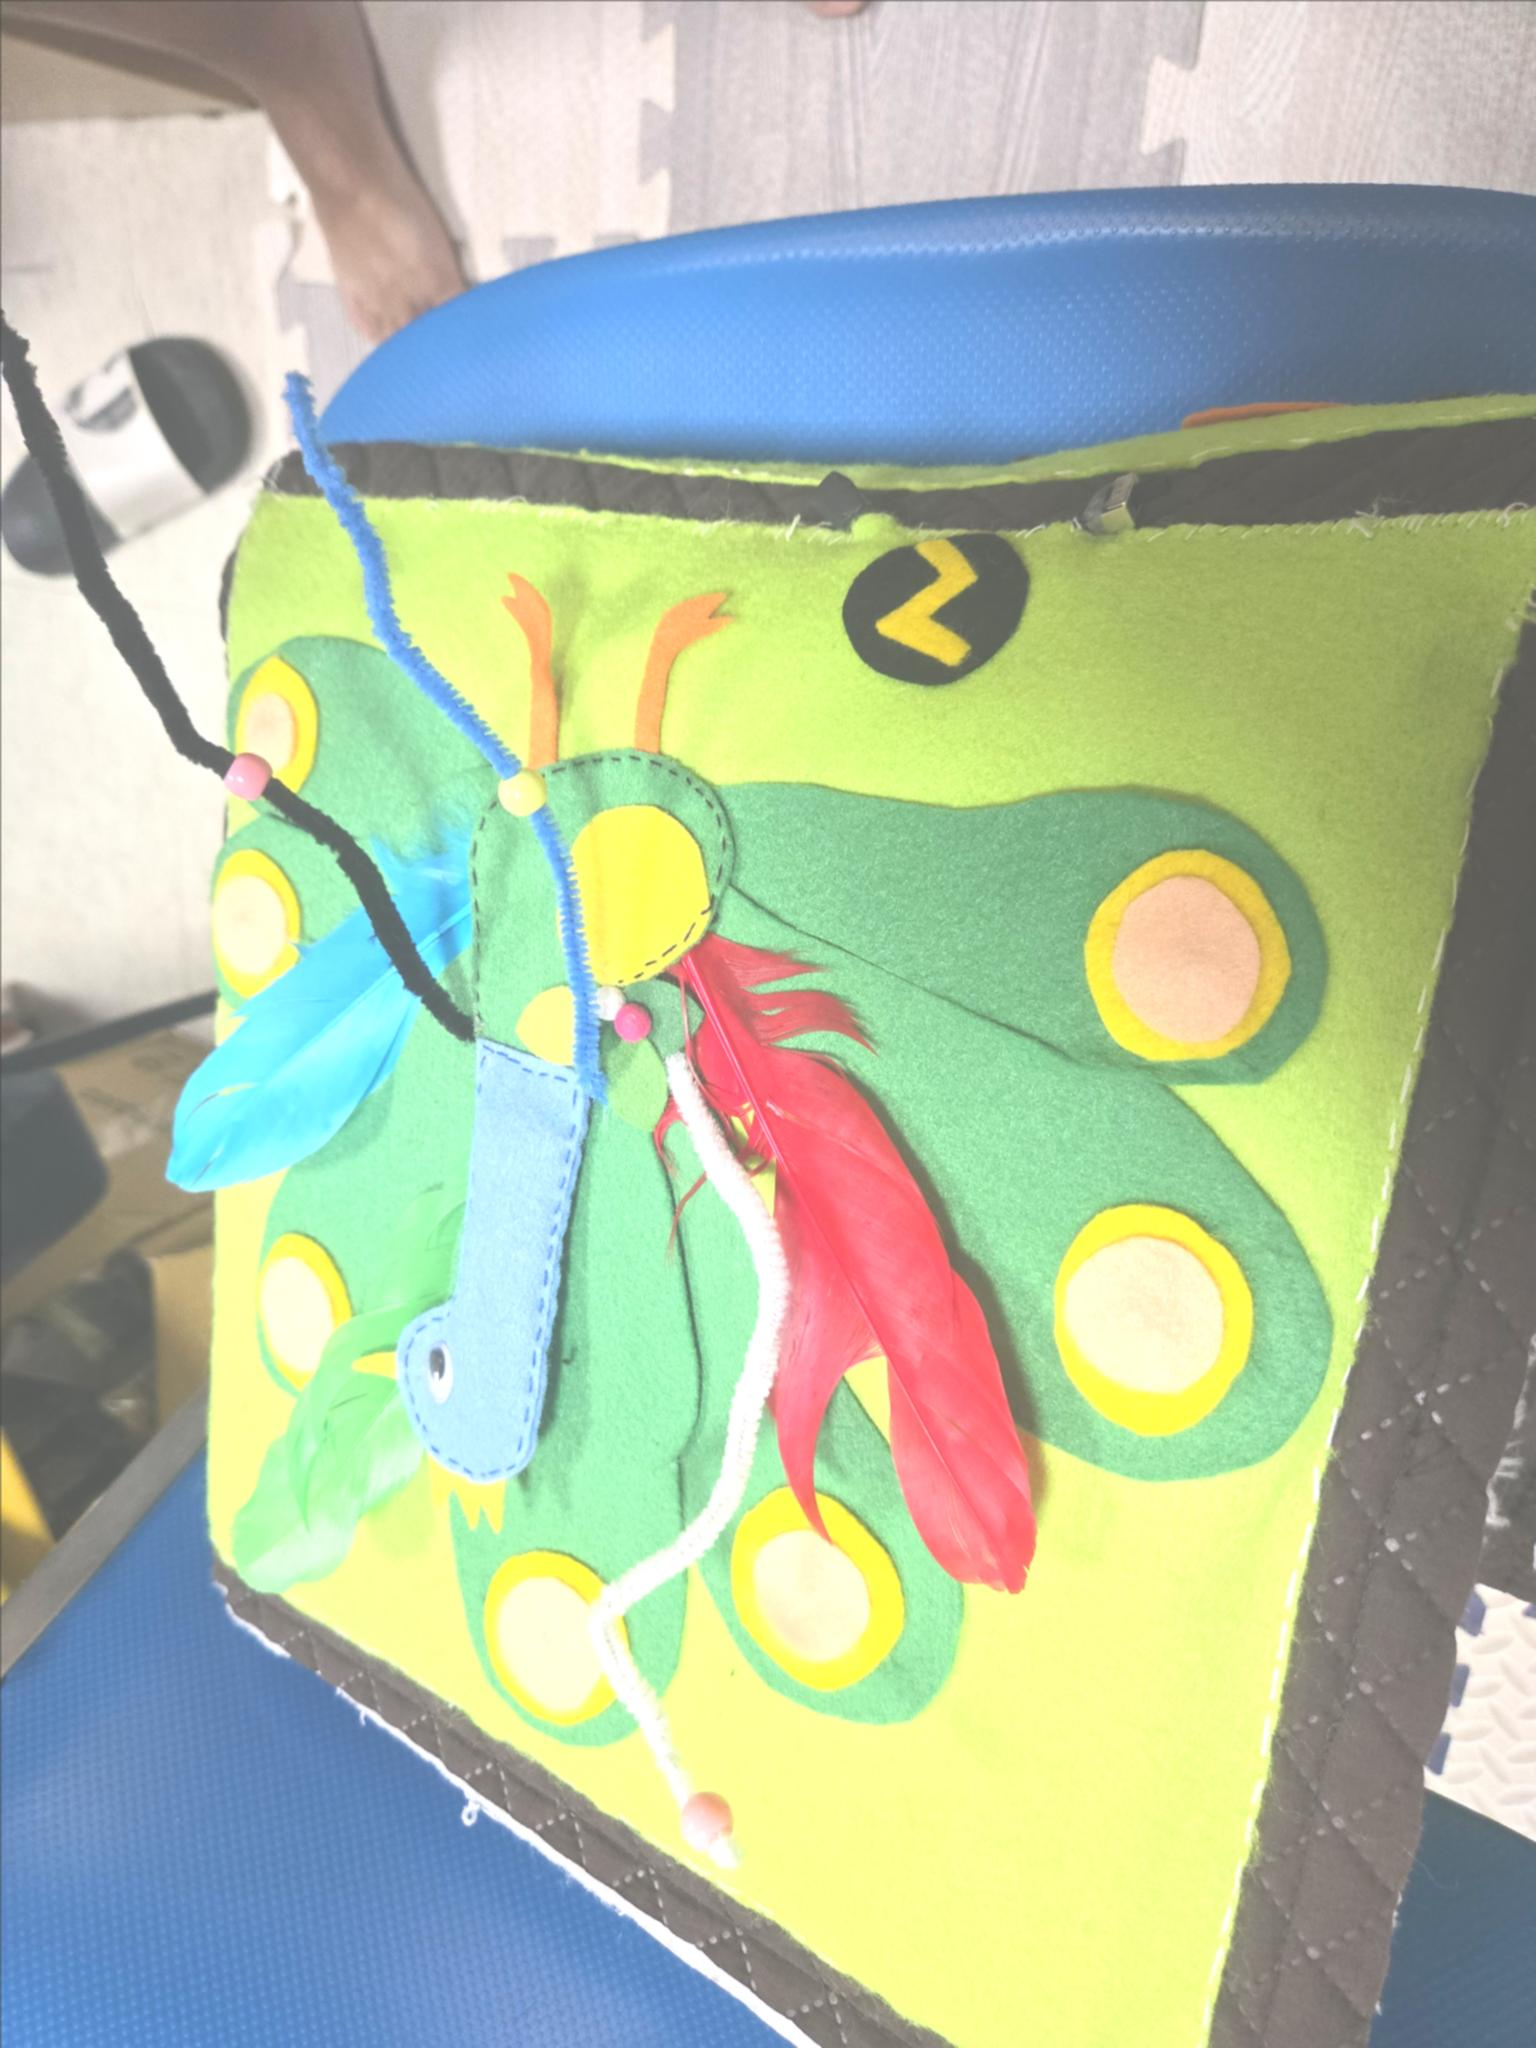bead: (661, 1768, 743, 1888), (482, 744, 558, 844), (210, 732, 280, 818)
